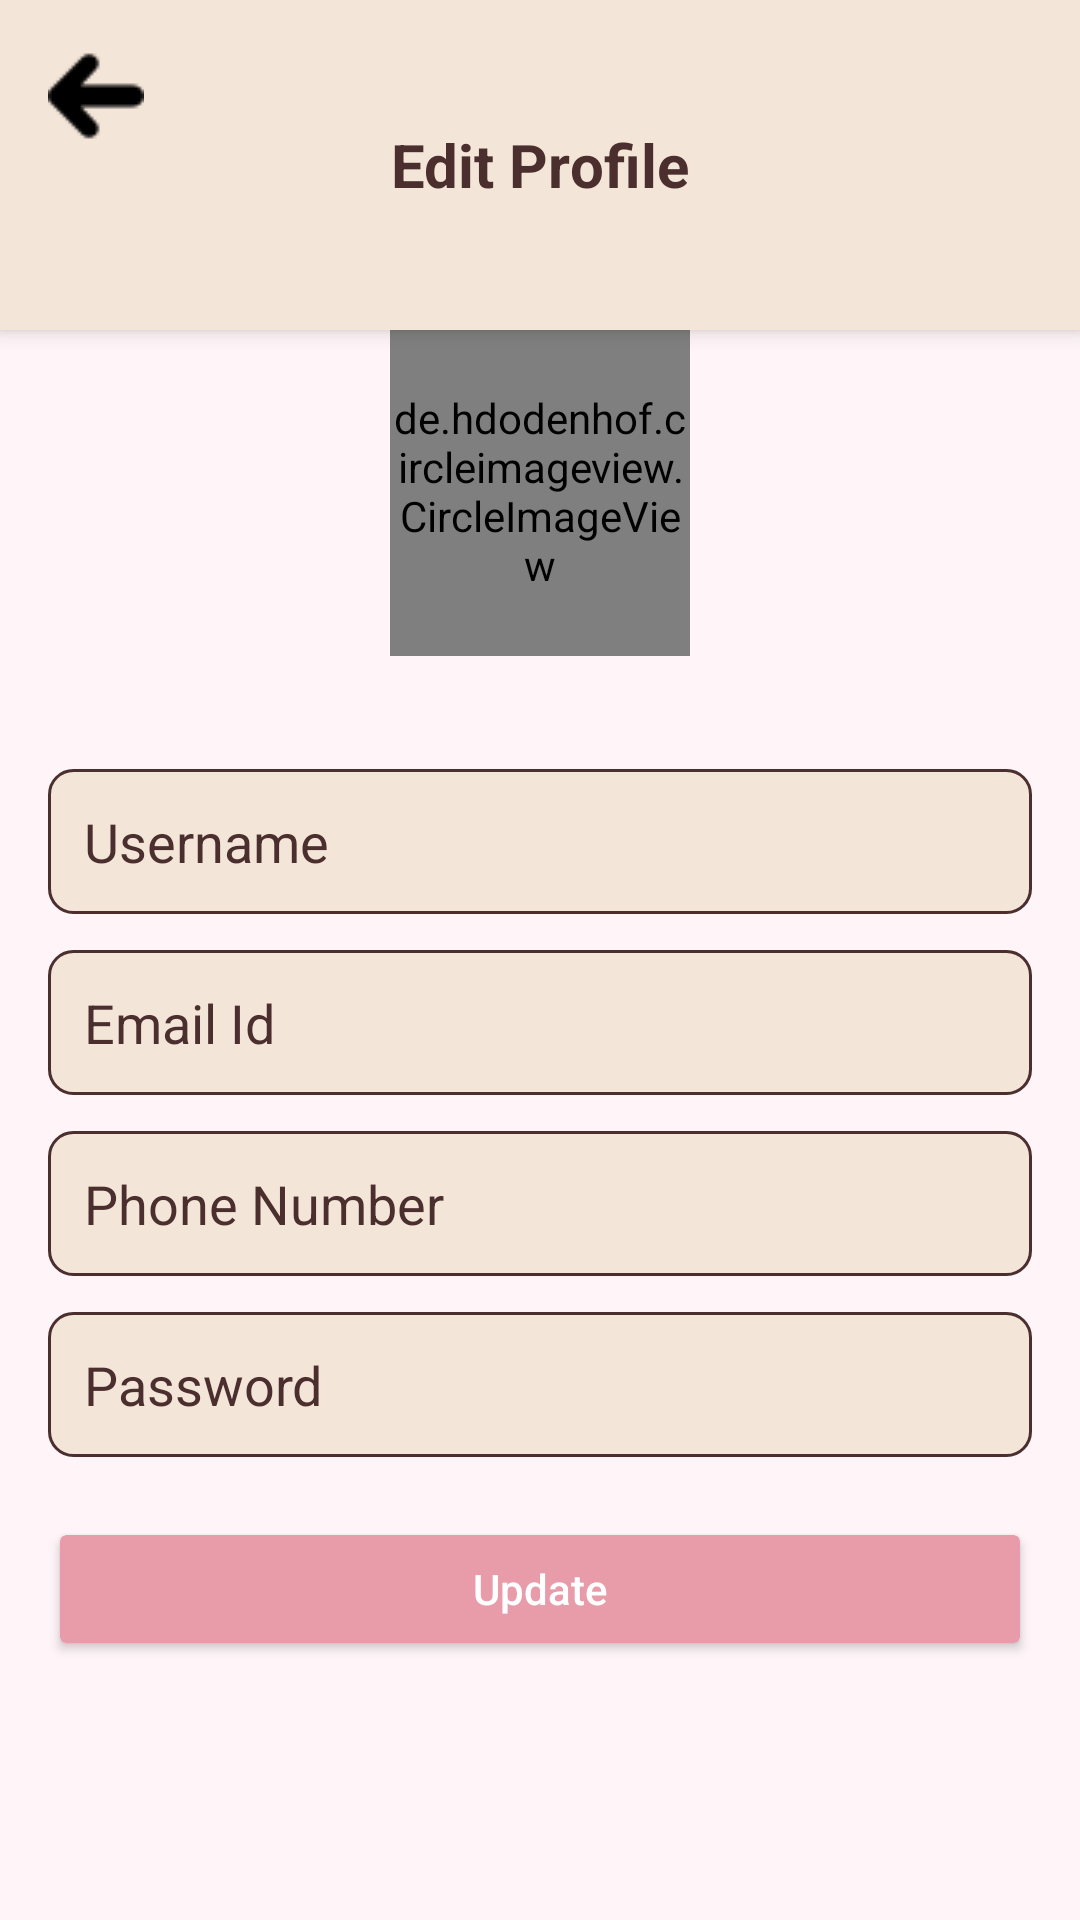

Locate icon controls on the screen. Image size 1080 × 1920, boxes as region(x1, y1, x2, y2).
Back: region(48, 53, 144, 139)
